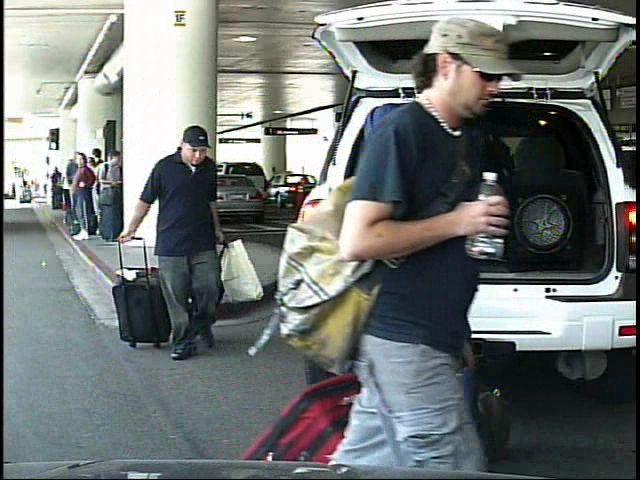person: (309, 12, 507, 476), (330, 73, 514, 476), (114, 125, 242, 365), (13, 174, 24, 205)
